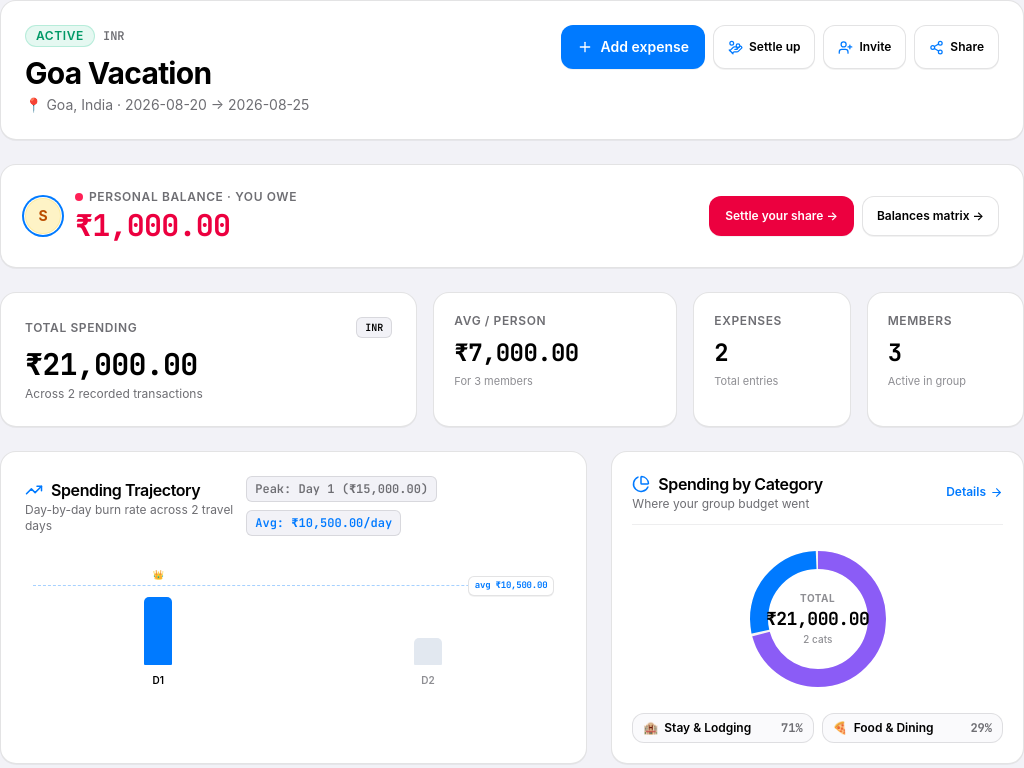
Test case: Empirical Challenge: Trip Overview Hub Navigation & Modals › 4. Settle Up Dialog Triggers and Interactions › allows owing user to click 'Settle your share' from personal standing hero banner
The width and height of the screenshot is (1024, 768).
Expected: the text "Personal Balance · You owe" is shown, [75, 189, 297, 205]
Click the button "Settle your share →" at x=782, y=216, box [709, 196, 854, 236]
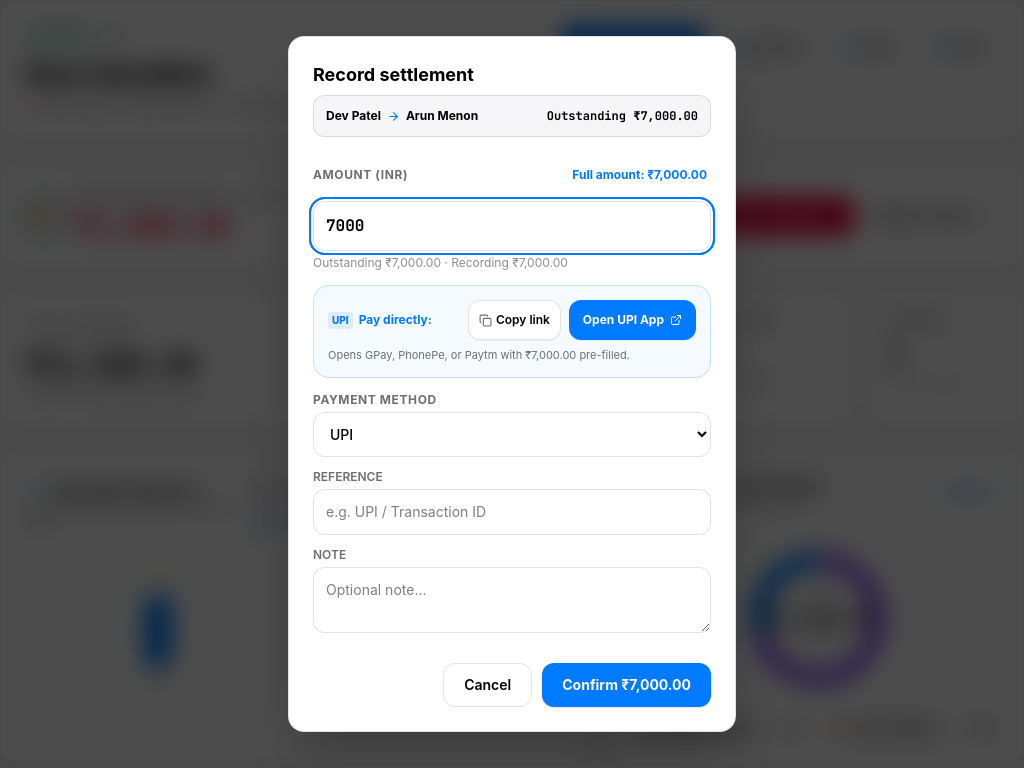
Expected: the dialog "Record settlement" is shown
